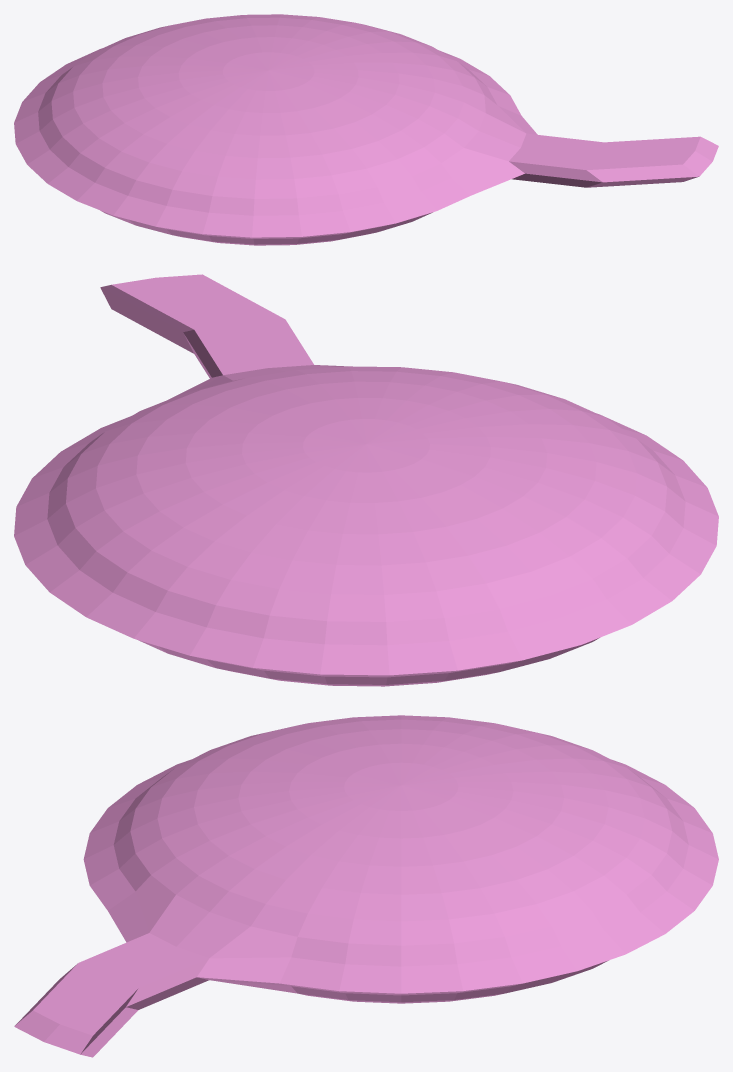
File: pillow.fbx
3 renders of one model, top to bottom at view 1: azimuth 30°, elevation 25°; view 2: azimuth 150°, elevation 25°; view 3: azimuth 270°, elevation 25°, orthographic. The views are drawn at different scales.
Parts seen in each view (by area): view 1: Pillow; view 2: Pillow; view 3: Pillow.
Boxes of the visible parts, left/top/right/bottom form: Pillow: left=14, top=14, right=718, bottom=245; Pillow: left=14, top=274, right=718, bottom=686; Pillow: left=14, top=715, right=718, bottom=1057.
Bounding box in the file's own units: 23.58 × 4.94 × 21.32.
